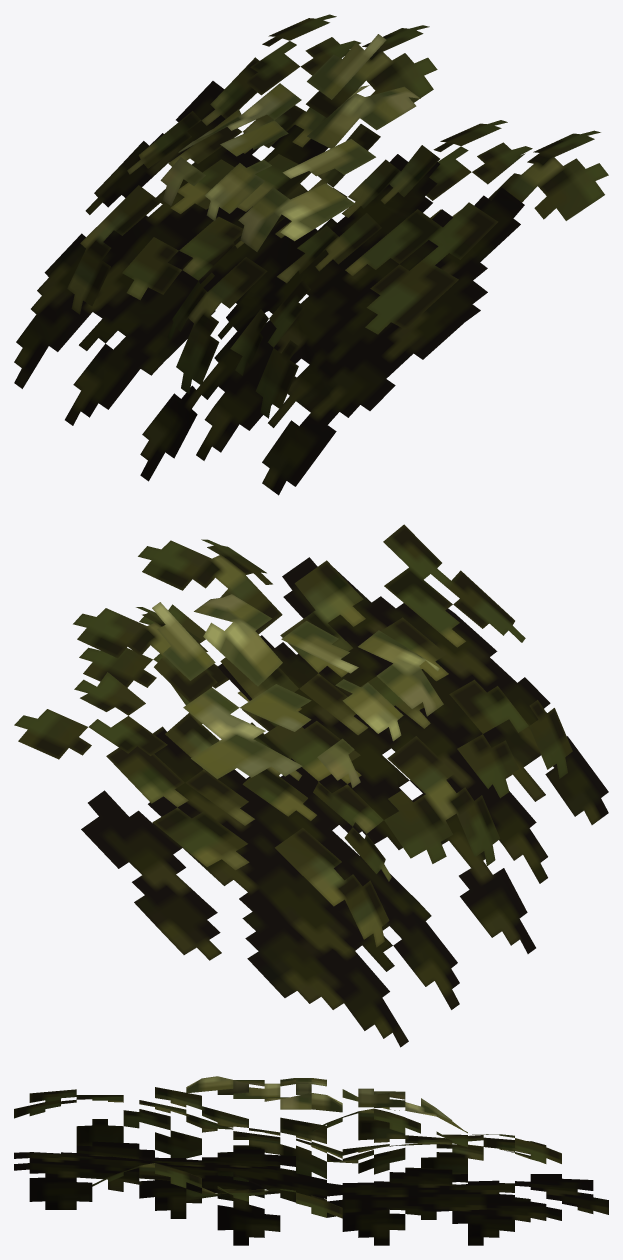
File: EnvFldMD_Grass_J_M.FBX
The picture shows the model from 3 angles, top to bottom: view 1: azimuth 30°, elevation 25°; view 2: azimuth 150°, elevation 25°; view 3: azimuth 270°, elevation 25°; orthographic projection. The views are drawn at different scales.
Parts seen in each view (by area): view 1: EnvFldMD_Grass_J_M; view 2: EnvFldMD_Grass_J_M; view 3: EnvFldMD_Grass_J_M.
Part boxes in pixels (bbox=[...]): EnvFldMD_Grass_J_M: bbox=[14, 14, 608, 495]; EnvFldMD_Grass_J_M: bbox=[14, 524, 608, 1047]; EnvFldMD_Grass_J_M: bbox=[14, 1076, 608, 1245].
Bounding box in the file's own units: 144 × 104 × 190.
Materials: 1 (1 with a texture image).
